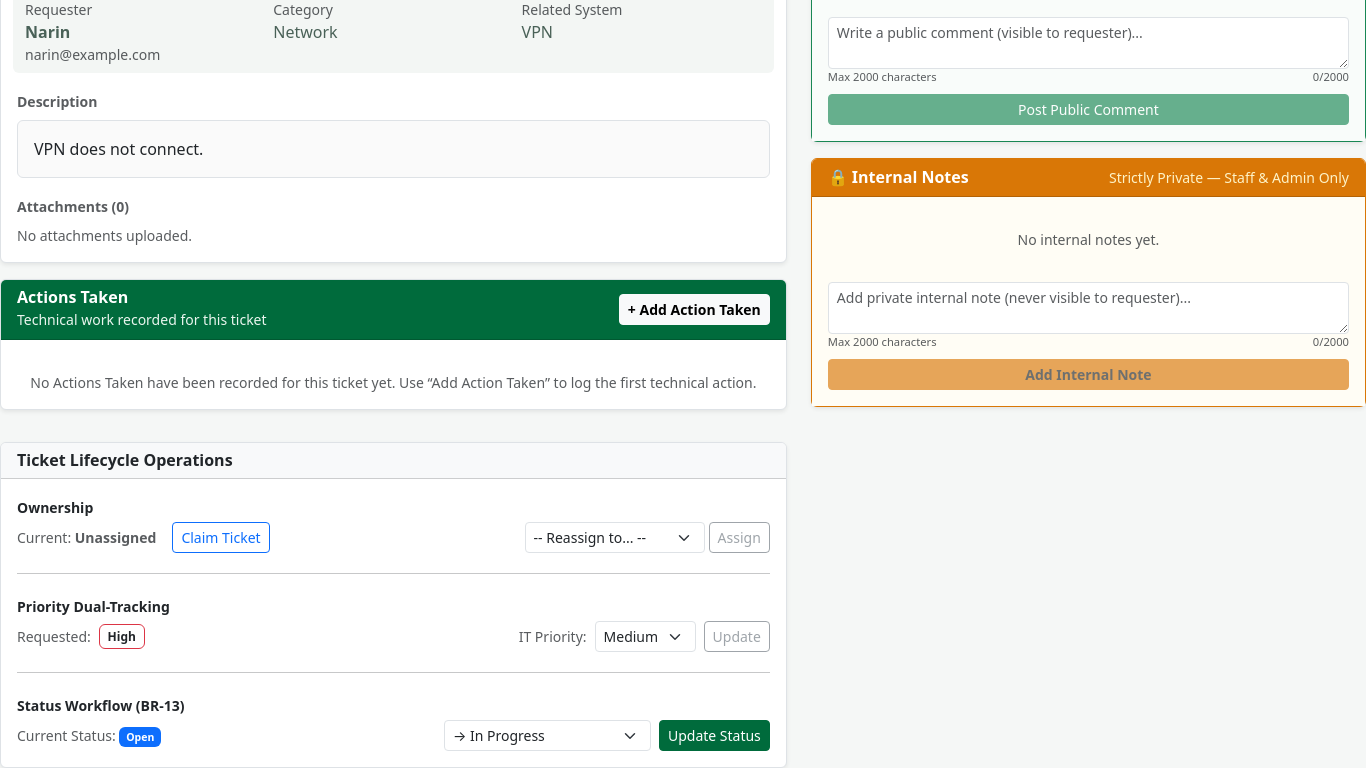
Test case: Ticket workflow actions (backend enforced, UI exposed) › executes a permitted transition and reports success
The image size is (1366, 768).
(page scrolled)
Select "→ In Progress" in the dropdown named "next status": x=547, y=736 x1=444 y1=720 x2=651 y2=751
Click the button "Update Status": x=714, y=736 x1=659 y1=720 x2=770 y2=751
(page scrolled)
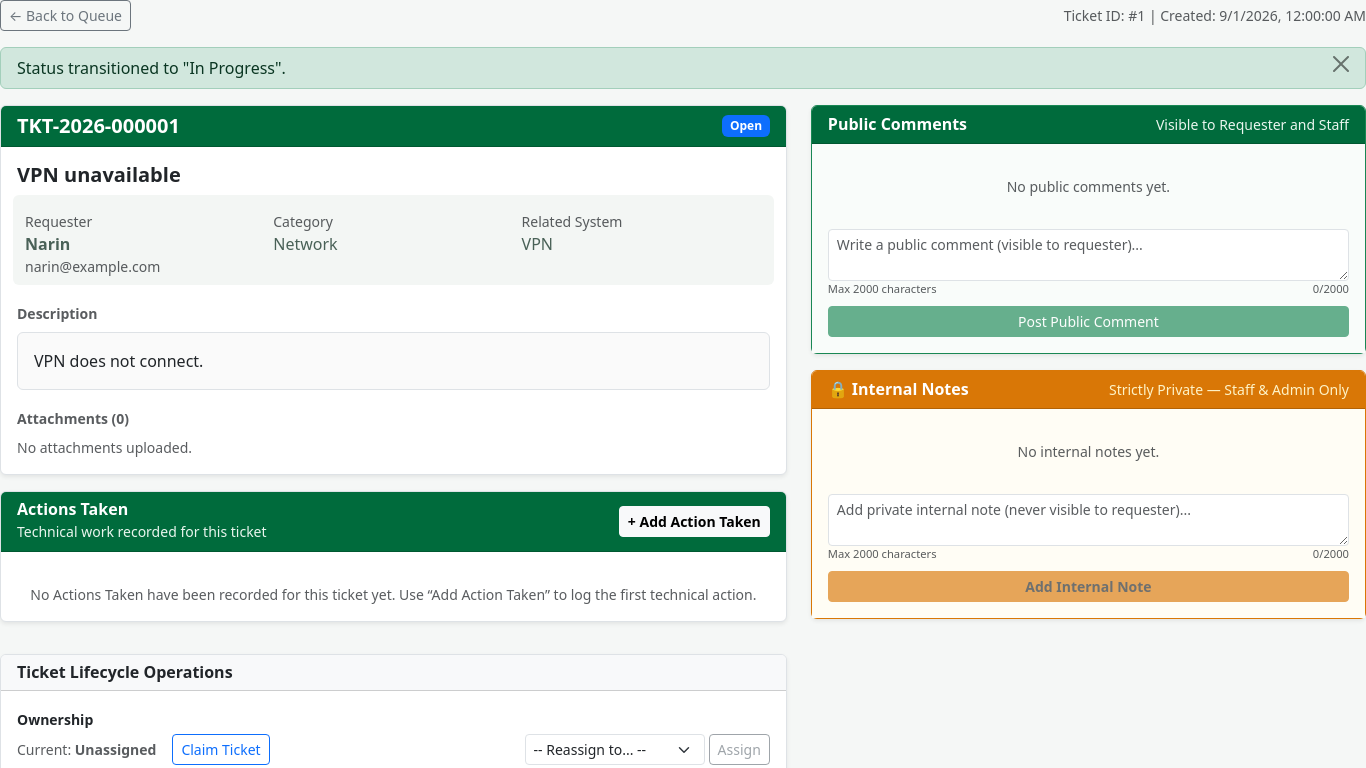
Now the text "Status transitioned to \"In Progress\"." is shown, box x1=17 y1=57 x2=286 y2=79
